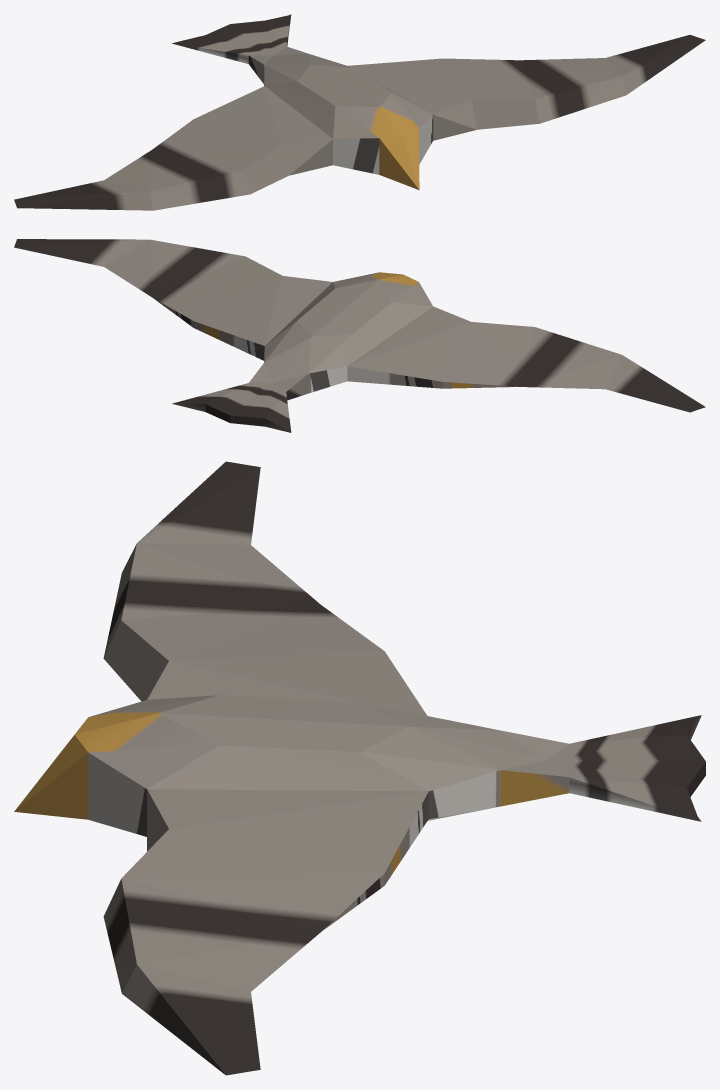
The model's file is Bird.obj.
3 views of the same model, one above another, from view 1: azimuth 30°, elevation 25°; view 2: azimuth 150°, elevation 25°; view 3: azimuth 270°, elevation 25° (orthographic). The views are drawn at different scales.
Parts seen in each view (by area): view 1: Bird; view 2: Bird; view 3: Bird.
Part boxes in pixels (x1,y1,x2,y2): Bird: [14, 14, 705, 210]; Bird: [14, 239, 705, 432]; Bird: [14, 461, 705, 1075].
Bounding box in the file's own units: 8.54 × 0.718 × 4.07.
